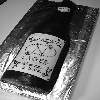beer: (6, 1, 80, 87)
